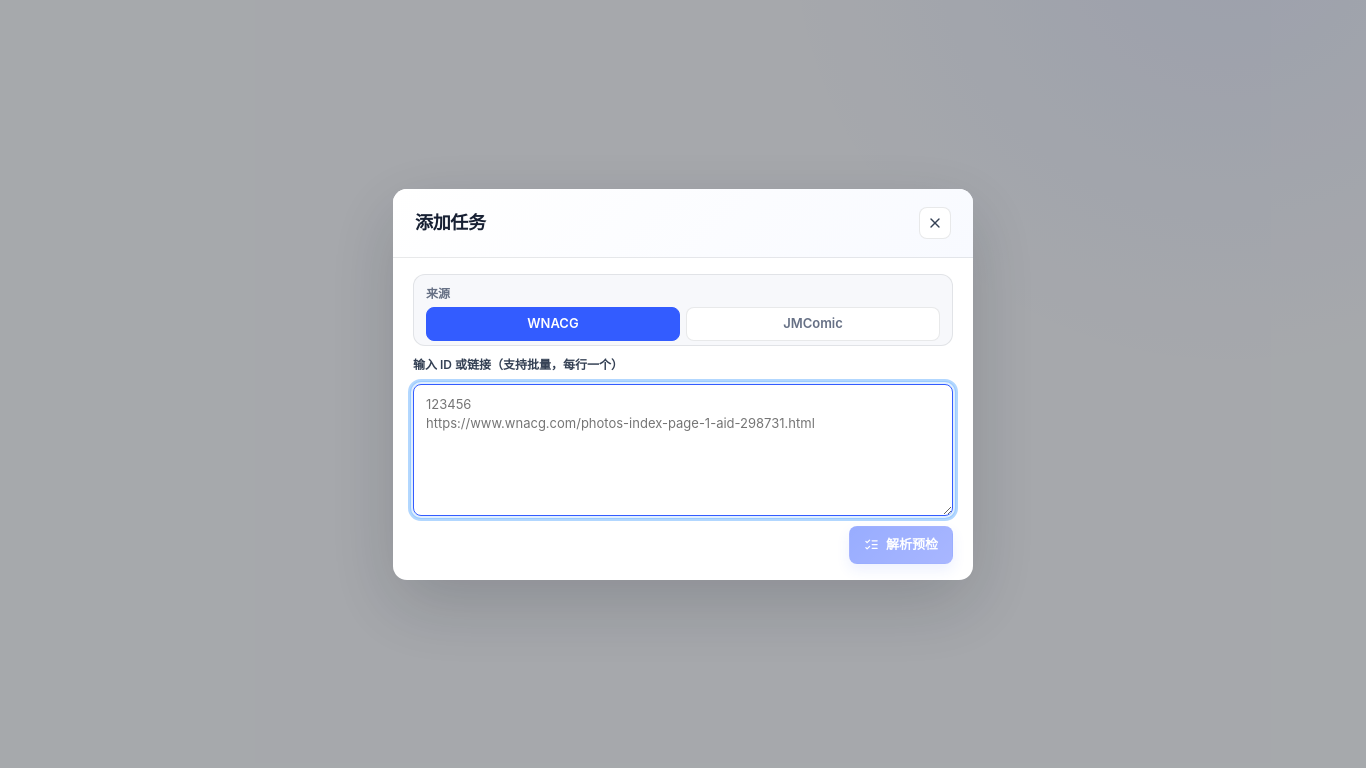
Test: AddTaskPanel source workflow › invalidates an existing preview when source or input changes
The width and height of the screenshot is (1366, 768).
Type "123" into the text box labelled "输入 ID 或链接（支持批量，每行一个）" at (683, 450), box [413,384,953,516]
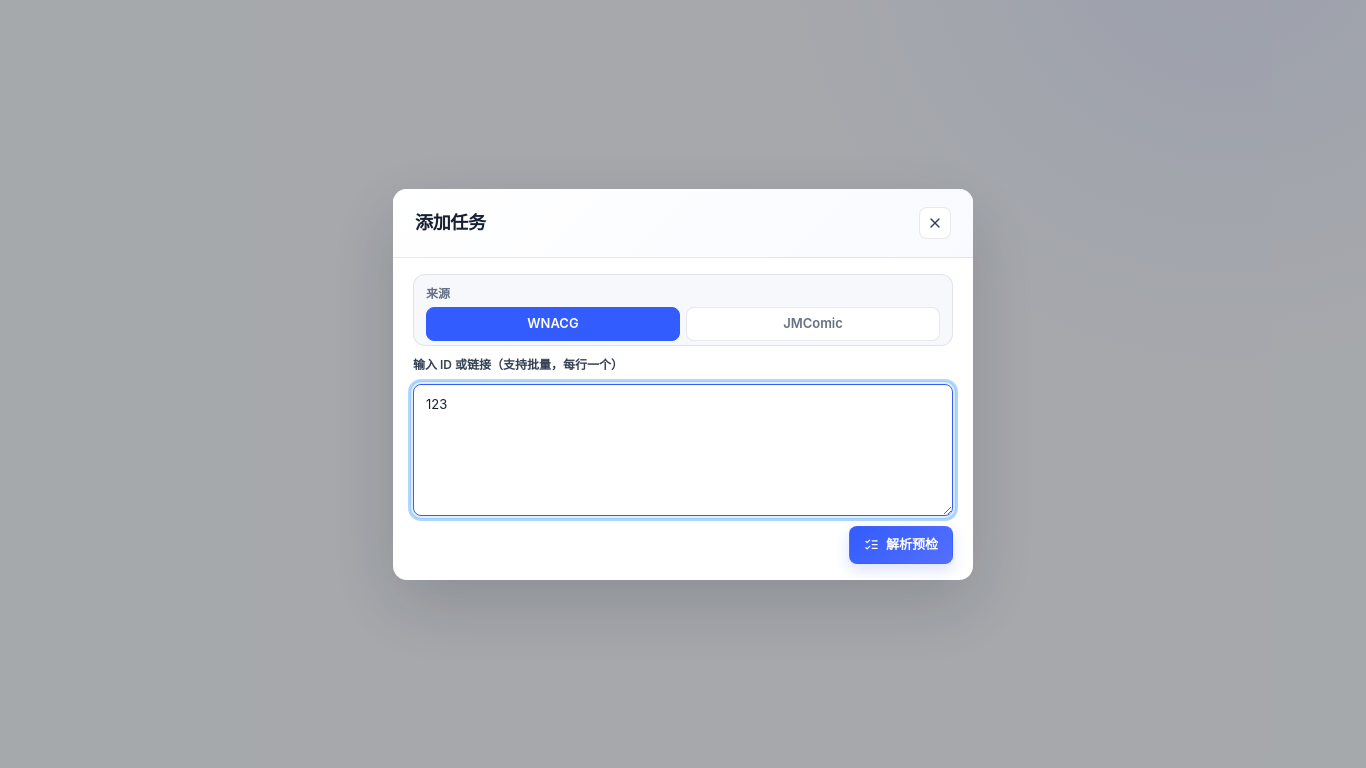
Click the button "解析预检" at (901, 544), box [849,526,953,564]
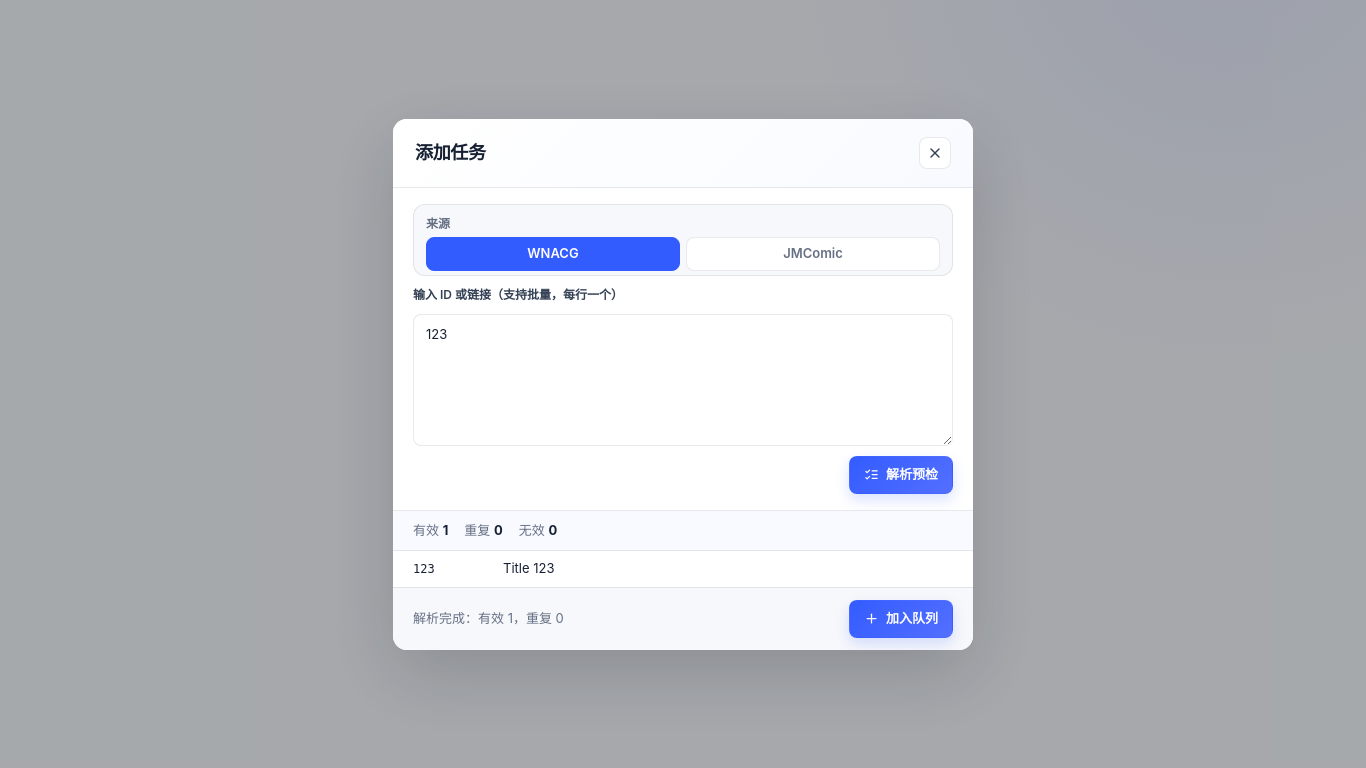
expect the text "Title 123" is shown: met, box [503,560,554,576]
Click the button "JMComic" at (813, 254), box [686,236,940,270]
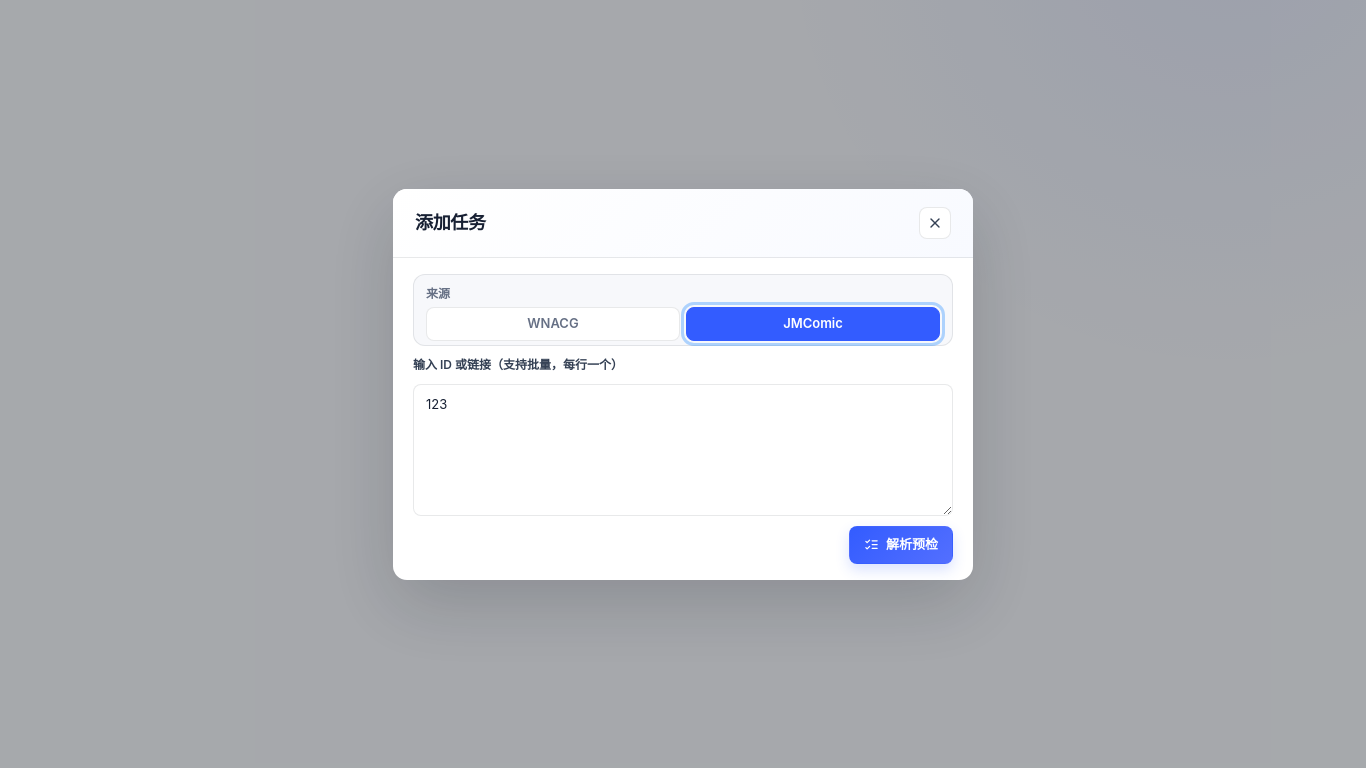
expect the text "Title 123" is gone: met
expect the button "加入队列" is gone: met
Click the button "解析预检" at (901, 544), box [849,526,953,564]
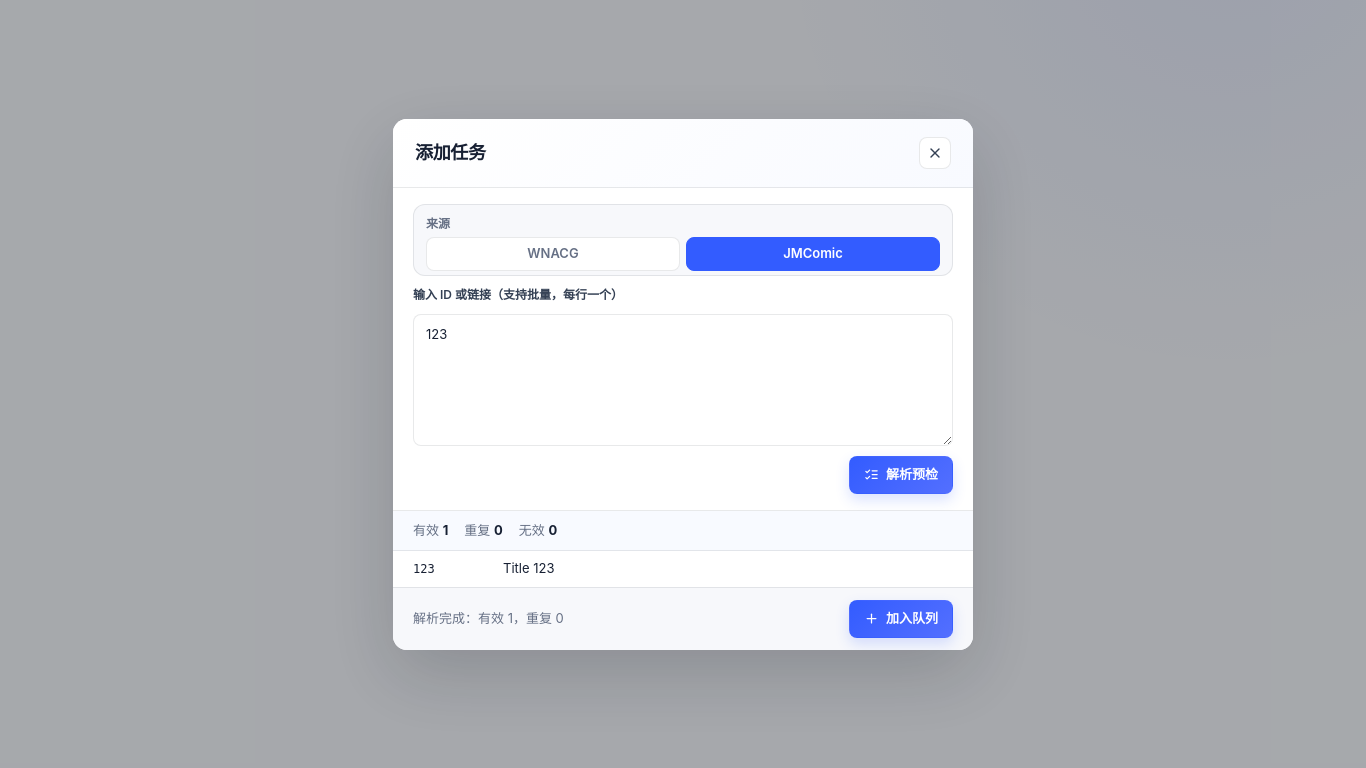
Replace the text in the text box labelled "输入 ID 或链接（支持批量，每行一个）" with "456" at (683, 380), box [413,314,953,446]
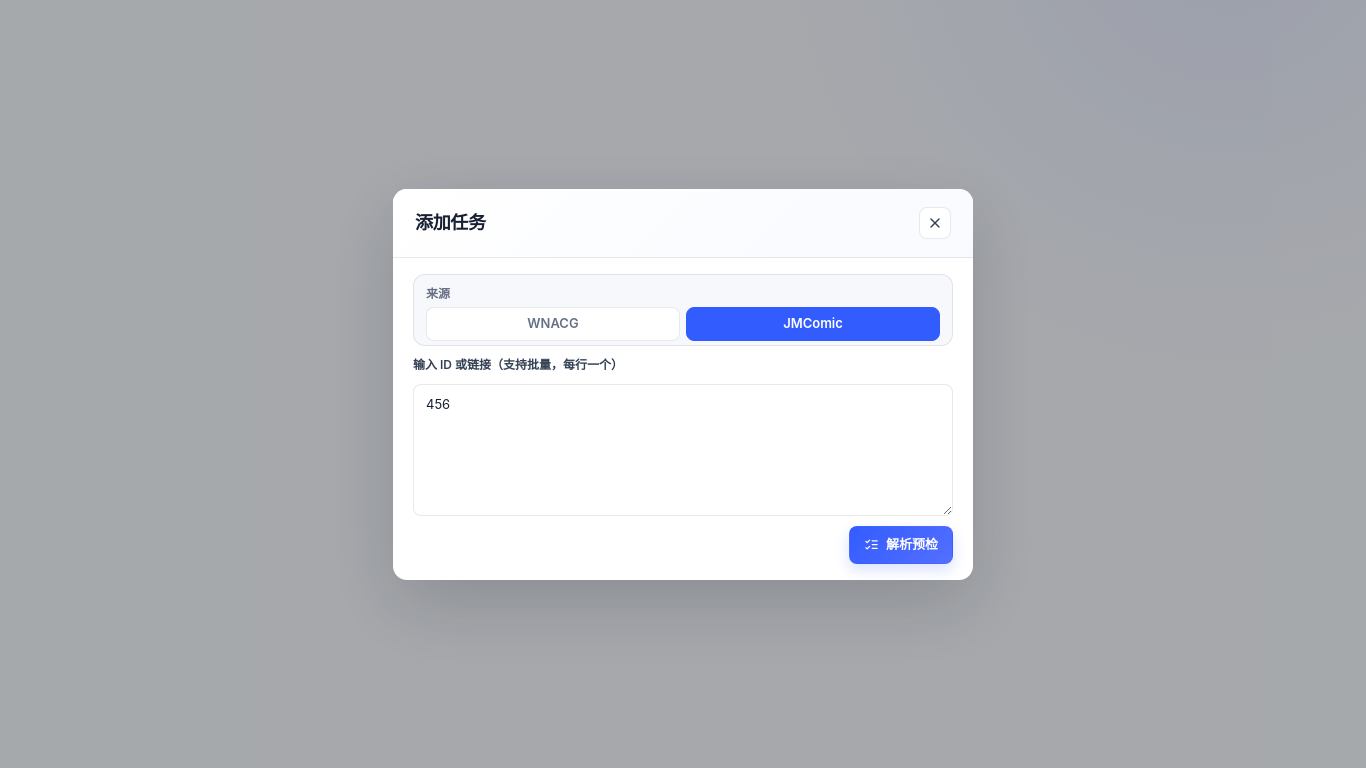
expect the text "Title 123" is gone: met
